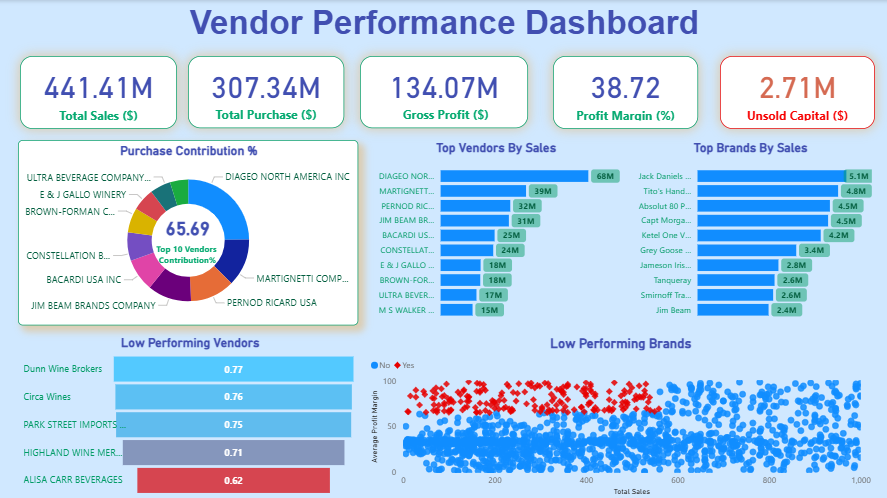

This screenshot's page, from the dashboard's own definition file:
{"tool":"powerbi","page":{"name":"Page 1","canvas":[1280,720],"ordinal":0},"visuals":[{"type":"textbox","box":[226.4,0,827.6,95.2],"z":0},{"type":"card","fields":{"Values":["Sum(inventory vendor_sales_summary.TotalSalesDollars)"]},"box":[28.8,80.7,226.4,105.2],"z":1000},{"type":"card","fields":{"Values":["Sum(inventory vendor_sales_summary.TotalPurchaseDollars)"]},"box":[271.1,80.7,224.9,103.8],"z":2000},{"type":"card","fields":{"Values":["Sum(inventory vendor_sales_summary.GrossProfit)"]},"box":[519,80.7,242.2,103.8],"z":3000},{"type":"card","fields":{"Values":["Avg(inventory vendor_sales_summary.ProfitMargin)"]},"box":[795.9,80.7,209.1,105.2],"z":4000},{"type":"card","fields":{"Values":["Sum(inventory vendor_sales_summary.UnsoldCapital)"]},"box":[1036.6,80.7,223.5,105.2],"z":5000},{"type":"donutChart","title":"Purchase Contribution % ","fields":{"Category":["PurchaseContribution.VendorName"],"Y":["Sum(PurchaseContribution.PurchaseContribution%)"]},"box":[26,201.8,490.2,266.7],"z":6000},{"type":"barChart","title":"Top Vendors By Sales","fields":{"Y":["Sum(inventory vendor_sales_summary.TotalSalesDollars)"],"Category":["inventory vendor_sales_summary.VendorName"]},"box":[529.1,201.8,372,266.7],"z":7000},{"type":"barChart","title":"Top Brands By Sales","fields":{"Y":["Sum(inventory vendor_sales_summary.TotalSalesDollars)"],"Category":["inventory vendor_sales_summary.Description"]},"box":[901.1,201.8,359,266.7],"z":8000},{"type":"funnel","title":"Low Performing Vendors","fields":{"Y":["Avg(LowTurnoverVendor.AvgStockTurnOver)"],"Category":["LowTurnoverVendor.VendorName"]},"box":[28.8,483,490.2,236.5],"z":9000},{"type":"scatterChart","title":"Low Performing Brands","fields":{"Category":["BrandPerformance.Description"],"X":["Sum(BrandPerformance.TotalSales)"],"Y":["BrandPerformance.AvgProfitMargin"],"Series":["BrandPerformance.TargetBrand"]},"box":[529.1,483,731,236.5],"z":10000},{"type":"card","fields":{"Values":["Sum(PurchaseContribution.PurchaseContribution%)"]},"box":[174.5,233.6,191.8,204.7],"z":11000}]}

Visuals, with their boxes in screenshot pixels (x1, y1, x2, y2), scaled from the page's 1280x720 canvas onto the 887x498 screenshot:
textbox: region(157, 0, 730, 66)
card - Sum(inventory vendor_sales_summary.TotalSalesDollars): region(20, 56, 177, 129)
card - Sum(inventory vendor_sales_summary.TotalPurchaseDollars): region(188, 56, 344, 128)
card - Sum(inventory vendor_sales_summary.GrossProfit): region(360, 56, 527, 128)
card - Avg(inventory vendor_sales_summary.ProfitMargin): region(552, 56, 696, 129)
card - Sum(inventory vendor_sales_summary.UnsoldCapital): region(718, 56, 873, 129)
"Purchase Contribution % " donutChart: region(18, 140, 358, 324)
"Top Vendors By Sales" barChart: region(367, 140, 624, 324)
"Top Brands By Sales" barChart: region(624, 140, 873, 324)
"Low Performing Vendors" funnel: region(20, 334, 360, 497)
"Low Performing Brands" scatterChart: region(367, 334, 873, 497)
card - Sum(PurchaseContribution.PurchaseContribution%): region(121, 162, 254, 303)
